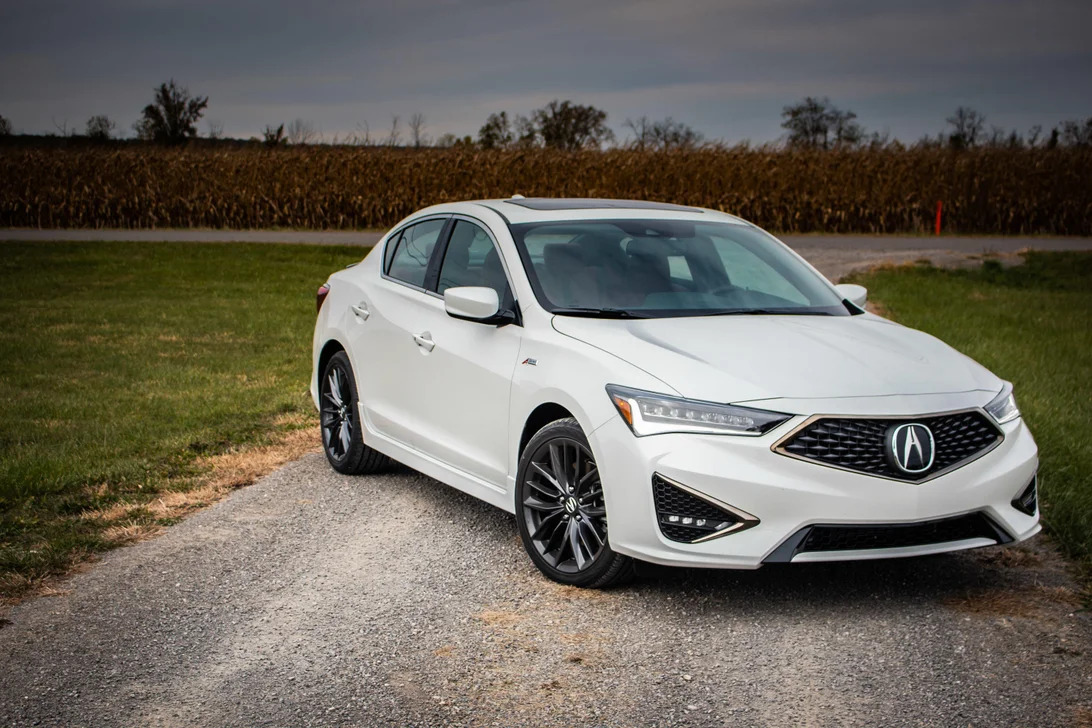Fog Lamp & Scope: (647, 487, 746, 544)
Front: (554, 328, 1048, 565)
Front Bumper: (612, 476, 1045, 564)
Grill: (792, 419, 988, 481)
Headlight: (604, 389, 775, 439)
